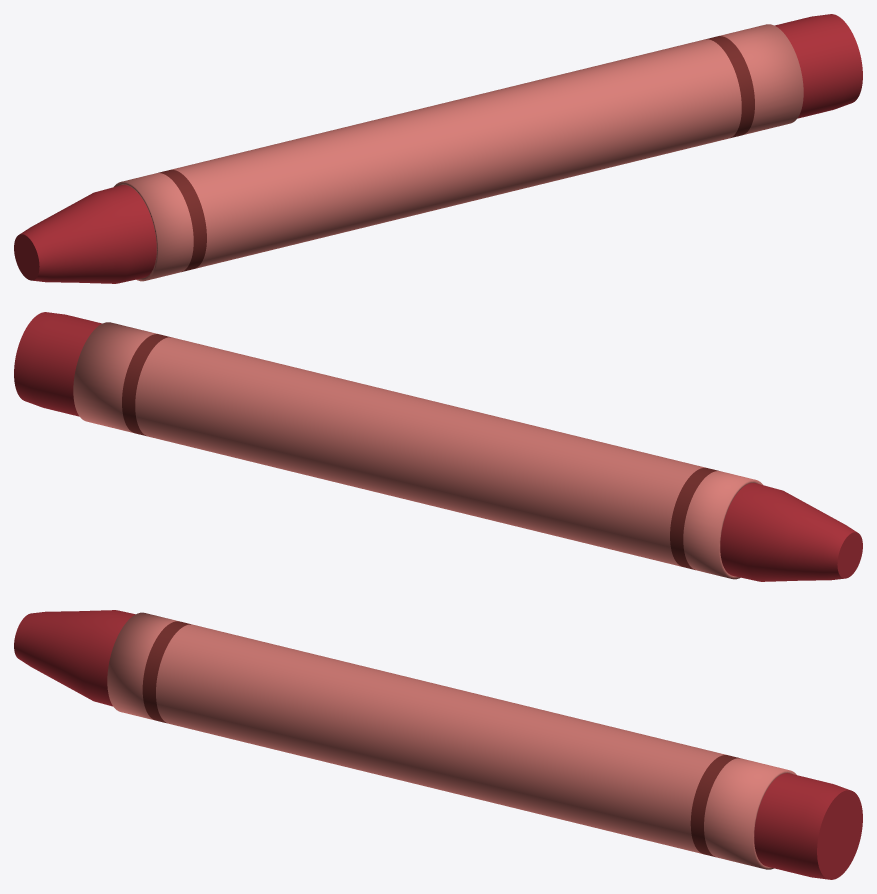
Rendered from A-NEW-20261027-CRAYON-001_LOD0_R1.glb.
The picture shows the model from 3 angles, top to bottom: view 1: azimuth 30°, elevation 25°; view 2: azimuth 150°, elevation 25°; view 3: azimuth 330°, elevation 25°; orthographic projection.
Visible parts, largest first — view 1: closed thin paper sleeve, whole blunt colored core; view 2: closed thin paper sleeve, whole blunt colored core; view 3: closed thin paper sleeve, whole blunt colored core.
Part boxes in pixels (x1,y1,x2,y2): closed thin paper sleeve: [114, 24, 803, 281]; whole blunt colored core: [14, 14, 862, 283]; closed thin paper sleeve: [73, 322, 762, 579]; whole blunt colored core: [14, 312, 862, 581]; closed thin paper sleeve: [107, 612, 796, 869]; whole blunt colored core: [14, 610, 862, 879].
Bounding box in the file's own units: 0.092 × 0.01 × 0.01.
